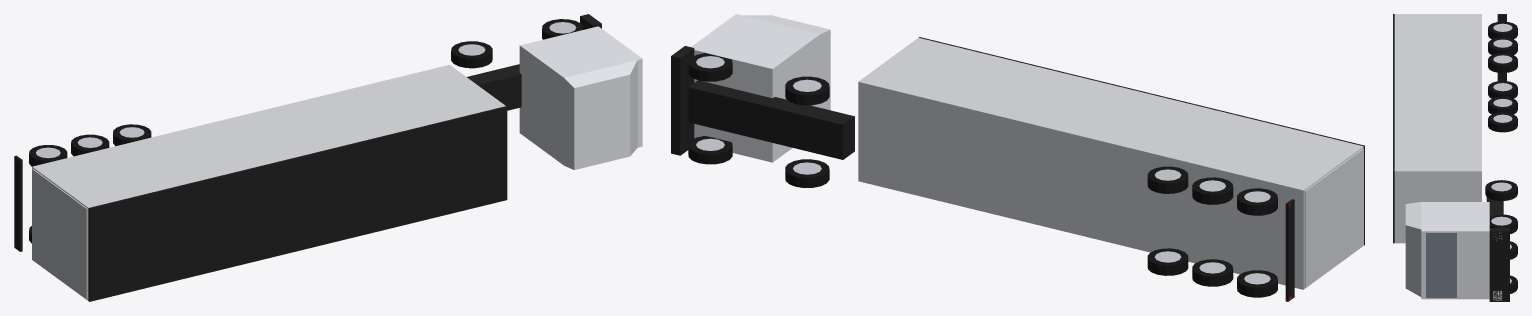
The model's file is Camion_Articulado_Completo.obj.
3 views of the same model, side by side, from view 1: azimuth 30°, elevation 25°; view 2: azimuth 150°, elevation 25°; view 3: azimuth 270°, elevation 25° (orthographic). The views are drawn at different scales.
Visible parts, largest first — view 1: Trailer_Roof, Trailer_Box, Cab_Body, Cab_Spoiler, Tr_Doors, Cab_Chassis, Cab_Wheel_RR, Tr_Bumper, Tr_Wheel_R2, Tr_Wheel_R1, Tr_Wheel_R3, Cab_Wheel_FR; view 2: Trailer_Box, Cab_Body, Cab_Chassis, Tr_Doors, Cab_Bumper, Cab_Spoiler, Cab_Wheel_RR, Cab_Wheel_RL, Cab_Wheel_FR, Cab_Wheel_FL, Tr_Wheel_L1, Tr_Wheel_R1 (+6 smaller); view 3: Trailer_Box, Cab_Body, Cab_Windshield, Cab_Bumper, Cab_Spoiler, Cab_Wheel_RR, Tr_Wheel_L1, Tr_Wheel_R1, Tr_Wheel_R2, Tr_Wheel_R3, Tr_Wheel_L2, Tr_Wheel_L3 (+7 smaller).
Boxes of the visible parts, x1,y1,x2,y2 form: Trailer_Roof: (88,106,507,301); Trailer_Box: (32,65,505,300); Cab_Body: (519,26,642,165); Cab_Spoiler: (564,60,637,169); Tr_Doors: (32,168,87,299); Cab_Chassis: (467,64,521,110); Cab_Wheel_RR: (451,41,492,68); Tr_Bumper: (14,155,22,251); Tr_Wheel_R2: (71,134,109,156); Tr_Wheel_R1: (113,124,151,146); Tr_Wheel_R3: (29,145,67,166); Cab_Wheel_FR: (542,19,583,39); Trailer_Box: (858,37,1363,289); Cab_Body: (691,14,819,162); Cab_Chassis: (688,80,854,159); Tr_Doors: (1304,148,1363,287); Cab_Bumper: (671,46,694,155); Cab_Spoiler: (742,15,830,110); Cab_Wheel_RR: (785,76,829,105); Cab_Wheel_RL: (785,159,829,187); Cab_Wheel_FR: (688,53,732,81); Cab_Wheel_FL: (688,136,732,164); Tr_Wheel_L1: (1147,248,1188,275); Tr_Wheel_R1: (1147,166,1188,193); Trailer_Box: (1394,14,1481,243); Cab_Body: (1421,202,1489,299); Cab_Windshield: (1426,233,1456,297); Cab_Bumper: (1489,228,1509,301); Cab_Spoiler: (1405,202,1421,296); Cab_Wheel_RR: (1485,180,1517,200); Tr_Wheel_L1: (1488,112,1517,132); Tr_Wheel_R1: (1488,53,1517,72); Tr_Wheel_R2: (1488,37,1517,54); Tr_Wheel_R3: (1488,21,1517,39); Tr_Wheel_L2: (1488,96,1517,114); Tr_Wheel_L3: (1488,81,1517,98).
Bounding box in the file's own units: 1650 × 255 × 400.
